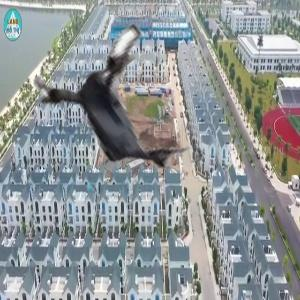drone: (26, 12, 221, 207)
